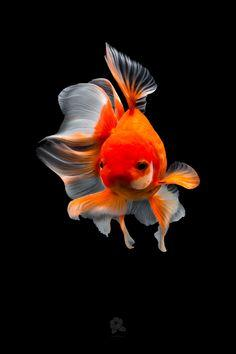goldfish: (38, 42, 214, 259)
